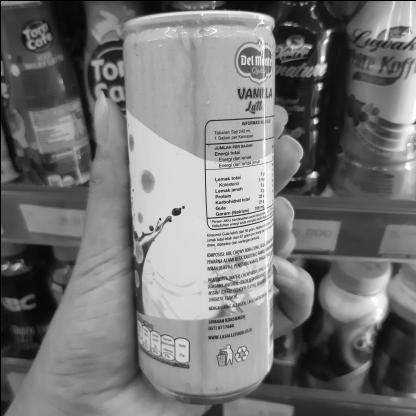alumunium_can: (96, 0, 296, 414)
